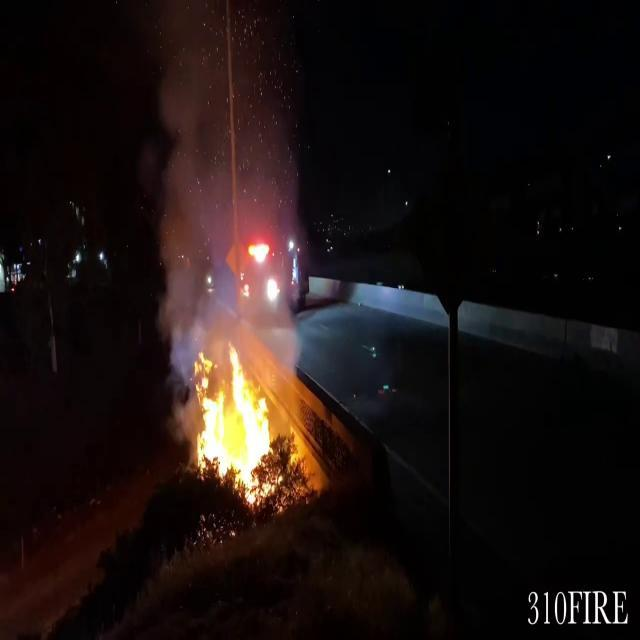Fire: (190, 340, 284, 500)
Smoke: (150, 2, 260, 357)
